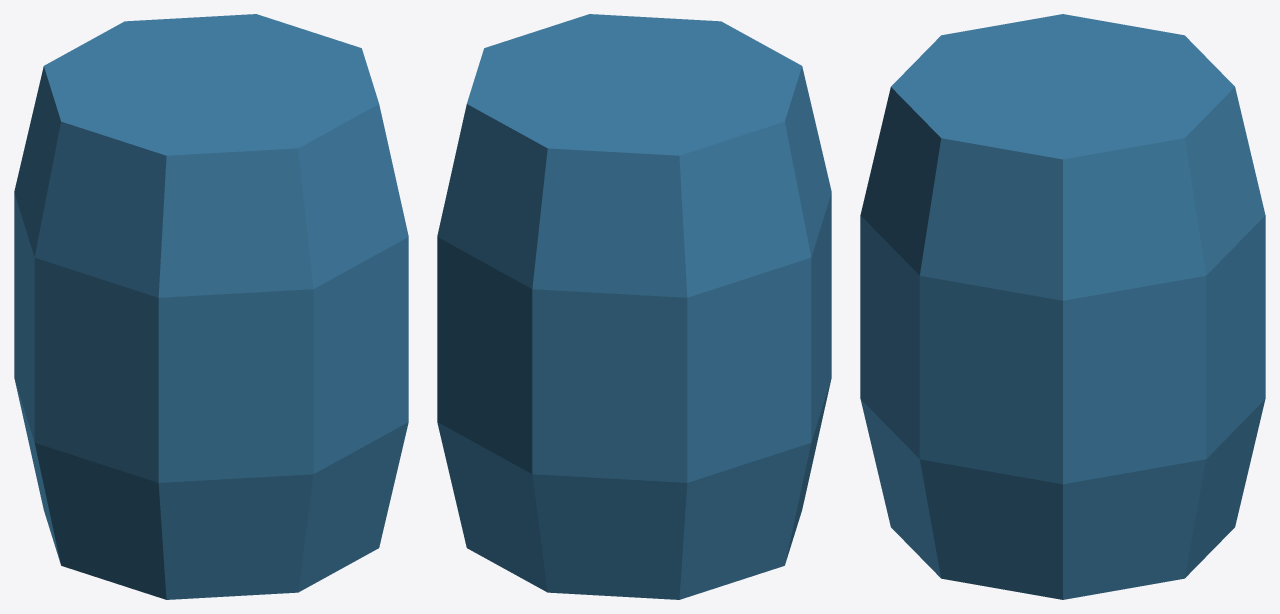
File: barrel.glb
The picture shows the model from 3 angles, left to right: view 1: azimuth 30°, elevation 25°; view 2: azimuth 150°, elevation 25°; view 3: azimuth 270°, elevation 25°; orthographic projection.
Visible parts, largest first — view 1: Barrel; view 2: Barrel; view 3: Barrel.
Boxes of the visible parts, box(x1,y1,x2,y2) form: Barrel: box(14, 14, 408, 599); Barrel: box(437, 14, 831, 599); Barrel: box(860, 14, 1265, 599).
Bounding box in the file's own units: 0.9167 × 1.1 × 0.9167.
Materials: 1 (1 with a texture image).
